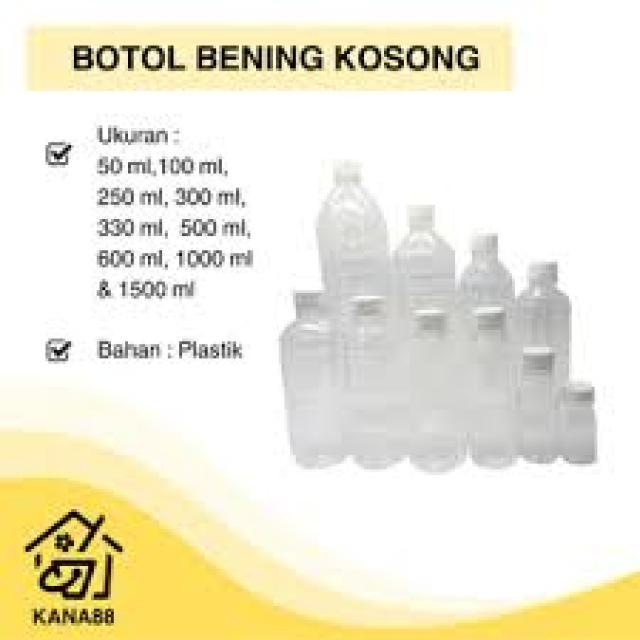good: (401, 316, 477, 480)
